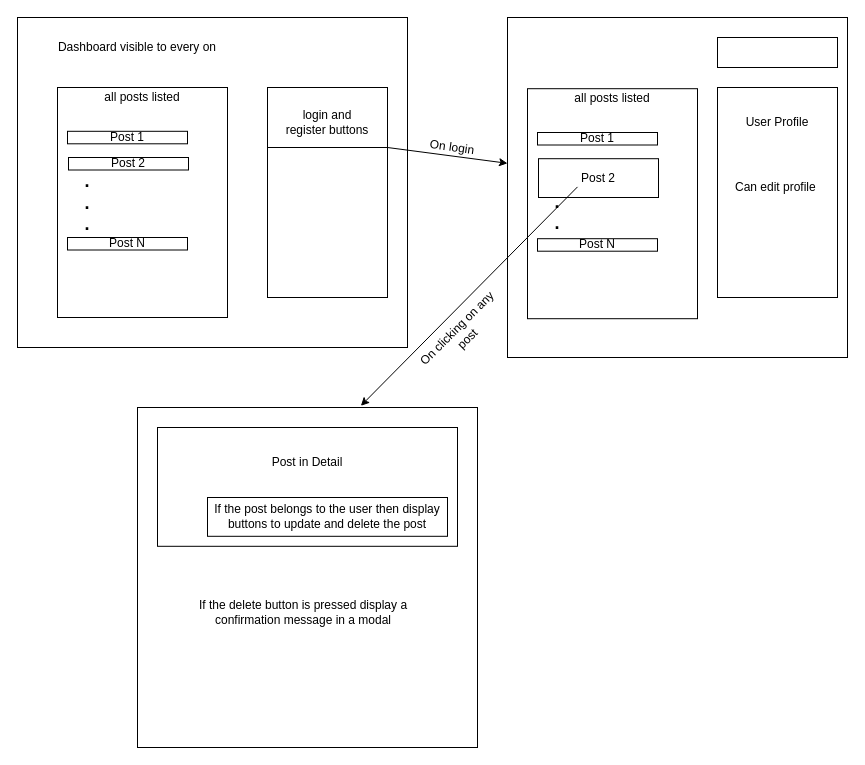
Some shapes in this 865 by 765 pixel diagram are drawn without their labels. Here are the shapes that lost their labels. From the top down, the box of each, then its label:
(716, 36, 838, 68): Button to add new post
(266, 146, 388, 298): Display login page in this division on clicking the login button.
